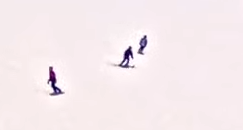skier: (110, 43, 138, 72)
snowboarder: (43, 62, 70, 100), (135, 29, 150, 58)
